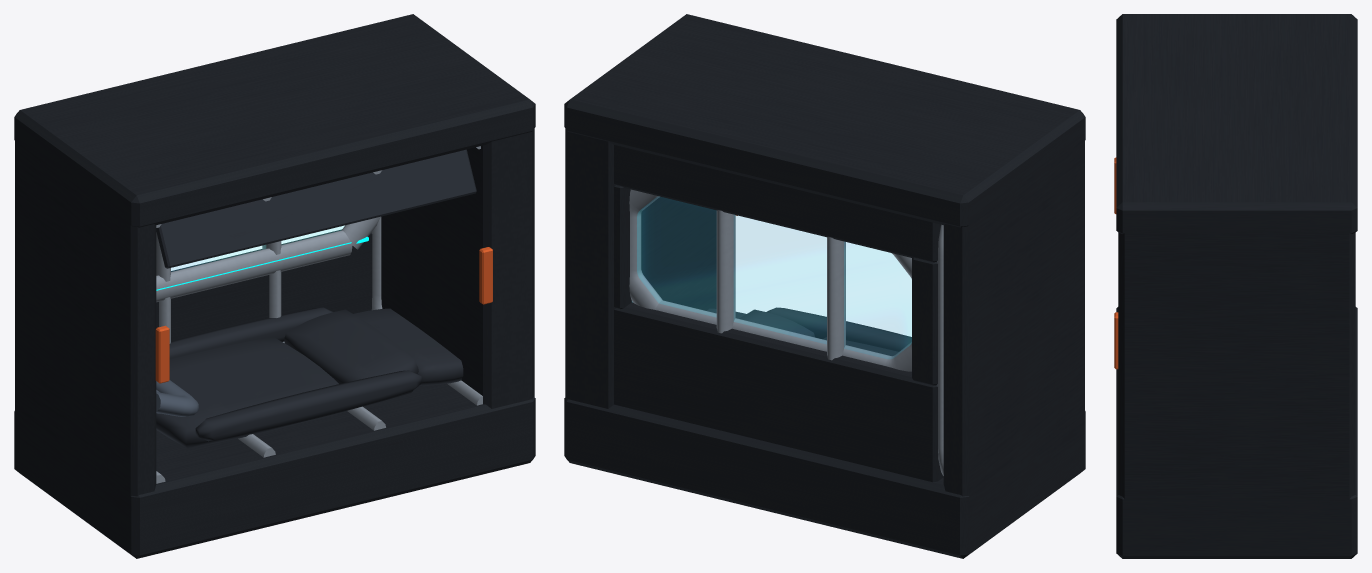
The model's file is bunk_r2_03.glb.
The picture shows the model from 3 angles, left to right: view 1: azimuth 30°, elevation 25°; view 2: azimuth 150°, elevation 25°; view 3: azimuth 270°, elevation 25°; orthographic projection.
Parts seen in each view (by area): view 1: CorvetteRack_GunmetalHullAndLockers, CorvetteRack_FlightCouchAndBaffle, CorvetteRack_MachinedRibArches, CorvetteRack_SignalOrangeHandles, CorvetteRack_SlateHeadCradle; view 2: CorvetteRack_GunmetalHullAndLockers, CorvetteRack_TranslucentSlitViewport, CorvetteRack_MachinedRibArches, CorvetteRack_FlightCouchAndBaffle; view 3: CorvetteRack_GunmetalHullAndLockers, CorvetteRack_SignalOrangeHandles.
Part boxes in pixels (x1,y1,x2,y2): CorvetteRack_GunmetalHullAndLockers: (14, 14, 535, 558); CorvetteRack_FlightCouchAndBaffle: (156, 149, 476, 448); CorvetteRack_MachinedRibArches: (156, 146, 482, 483); CorvetteRack_SignalOrangeHandles: (155, 247, 492, 383); CorvetteRack_SlateHeadCradle: (156, 380, 198, 416); CorvetteRack_GunmetalHullAndLockers: (564, 14, 1085, 558); CorvetteRack_TranslucentSlitViewport: (637, 197, 911, 358); CorvetteRack_MachinedRibArches: (629, 189, 943, 475); CorvetteRack_FlightCouchAndBaffle: (706, 307, 911, 356); CorvetteRack_GunmetalHullAndLockers: (1116, 14, 1357, 558); CorvetteRack_SignalOrangeHandles: (1114, 157, 1118, 369).
Bounding box in the file's own units: 2.2 × 1.89 × 1.17.
8 materials, 8 textured.
